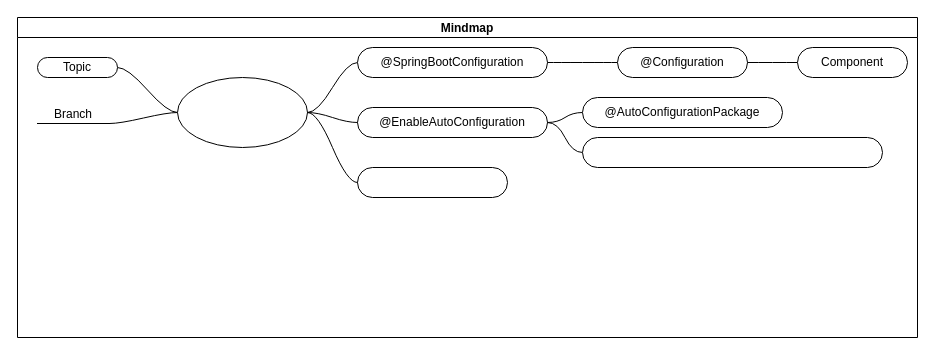
Some shapes in this 935 by 355 pixel diagram are drawn without their labels. Each missing label, with the centre of its shape:
@ComponentScan: the point at 432,182
@import(AutoConfigurationImportSelector.class): the point at 732,152
SpringBoot自动装配: the point at 242,112
